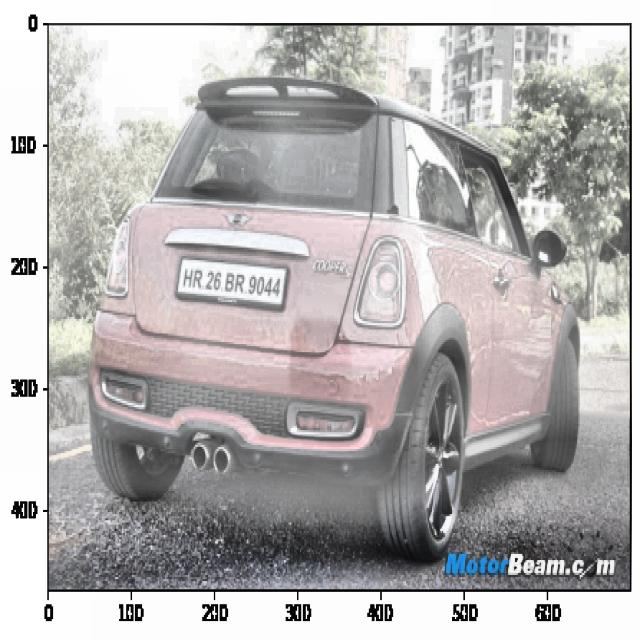license_plate: (180, 261, 286, 310)
